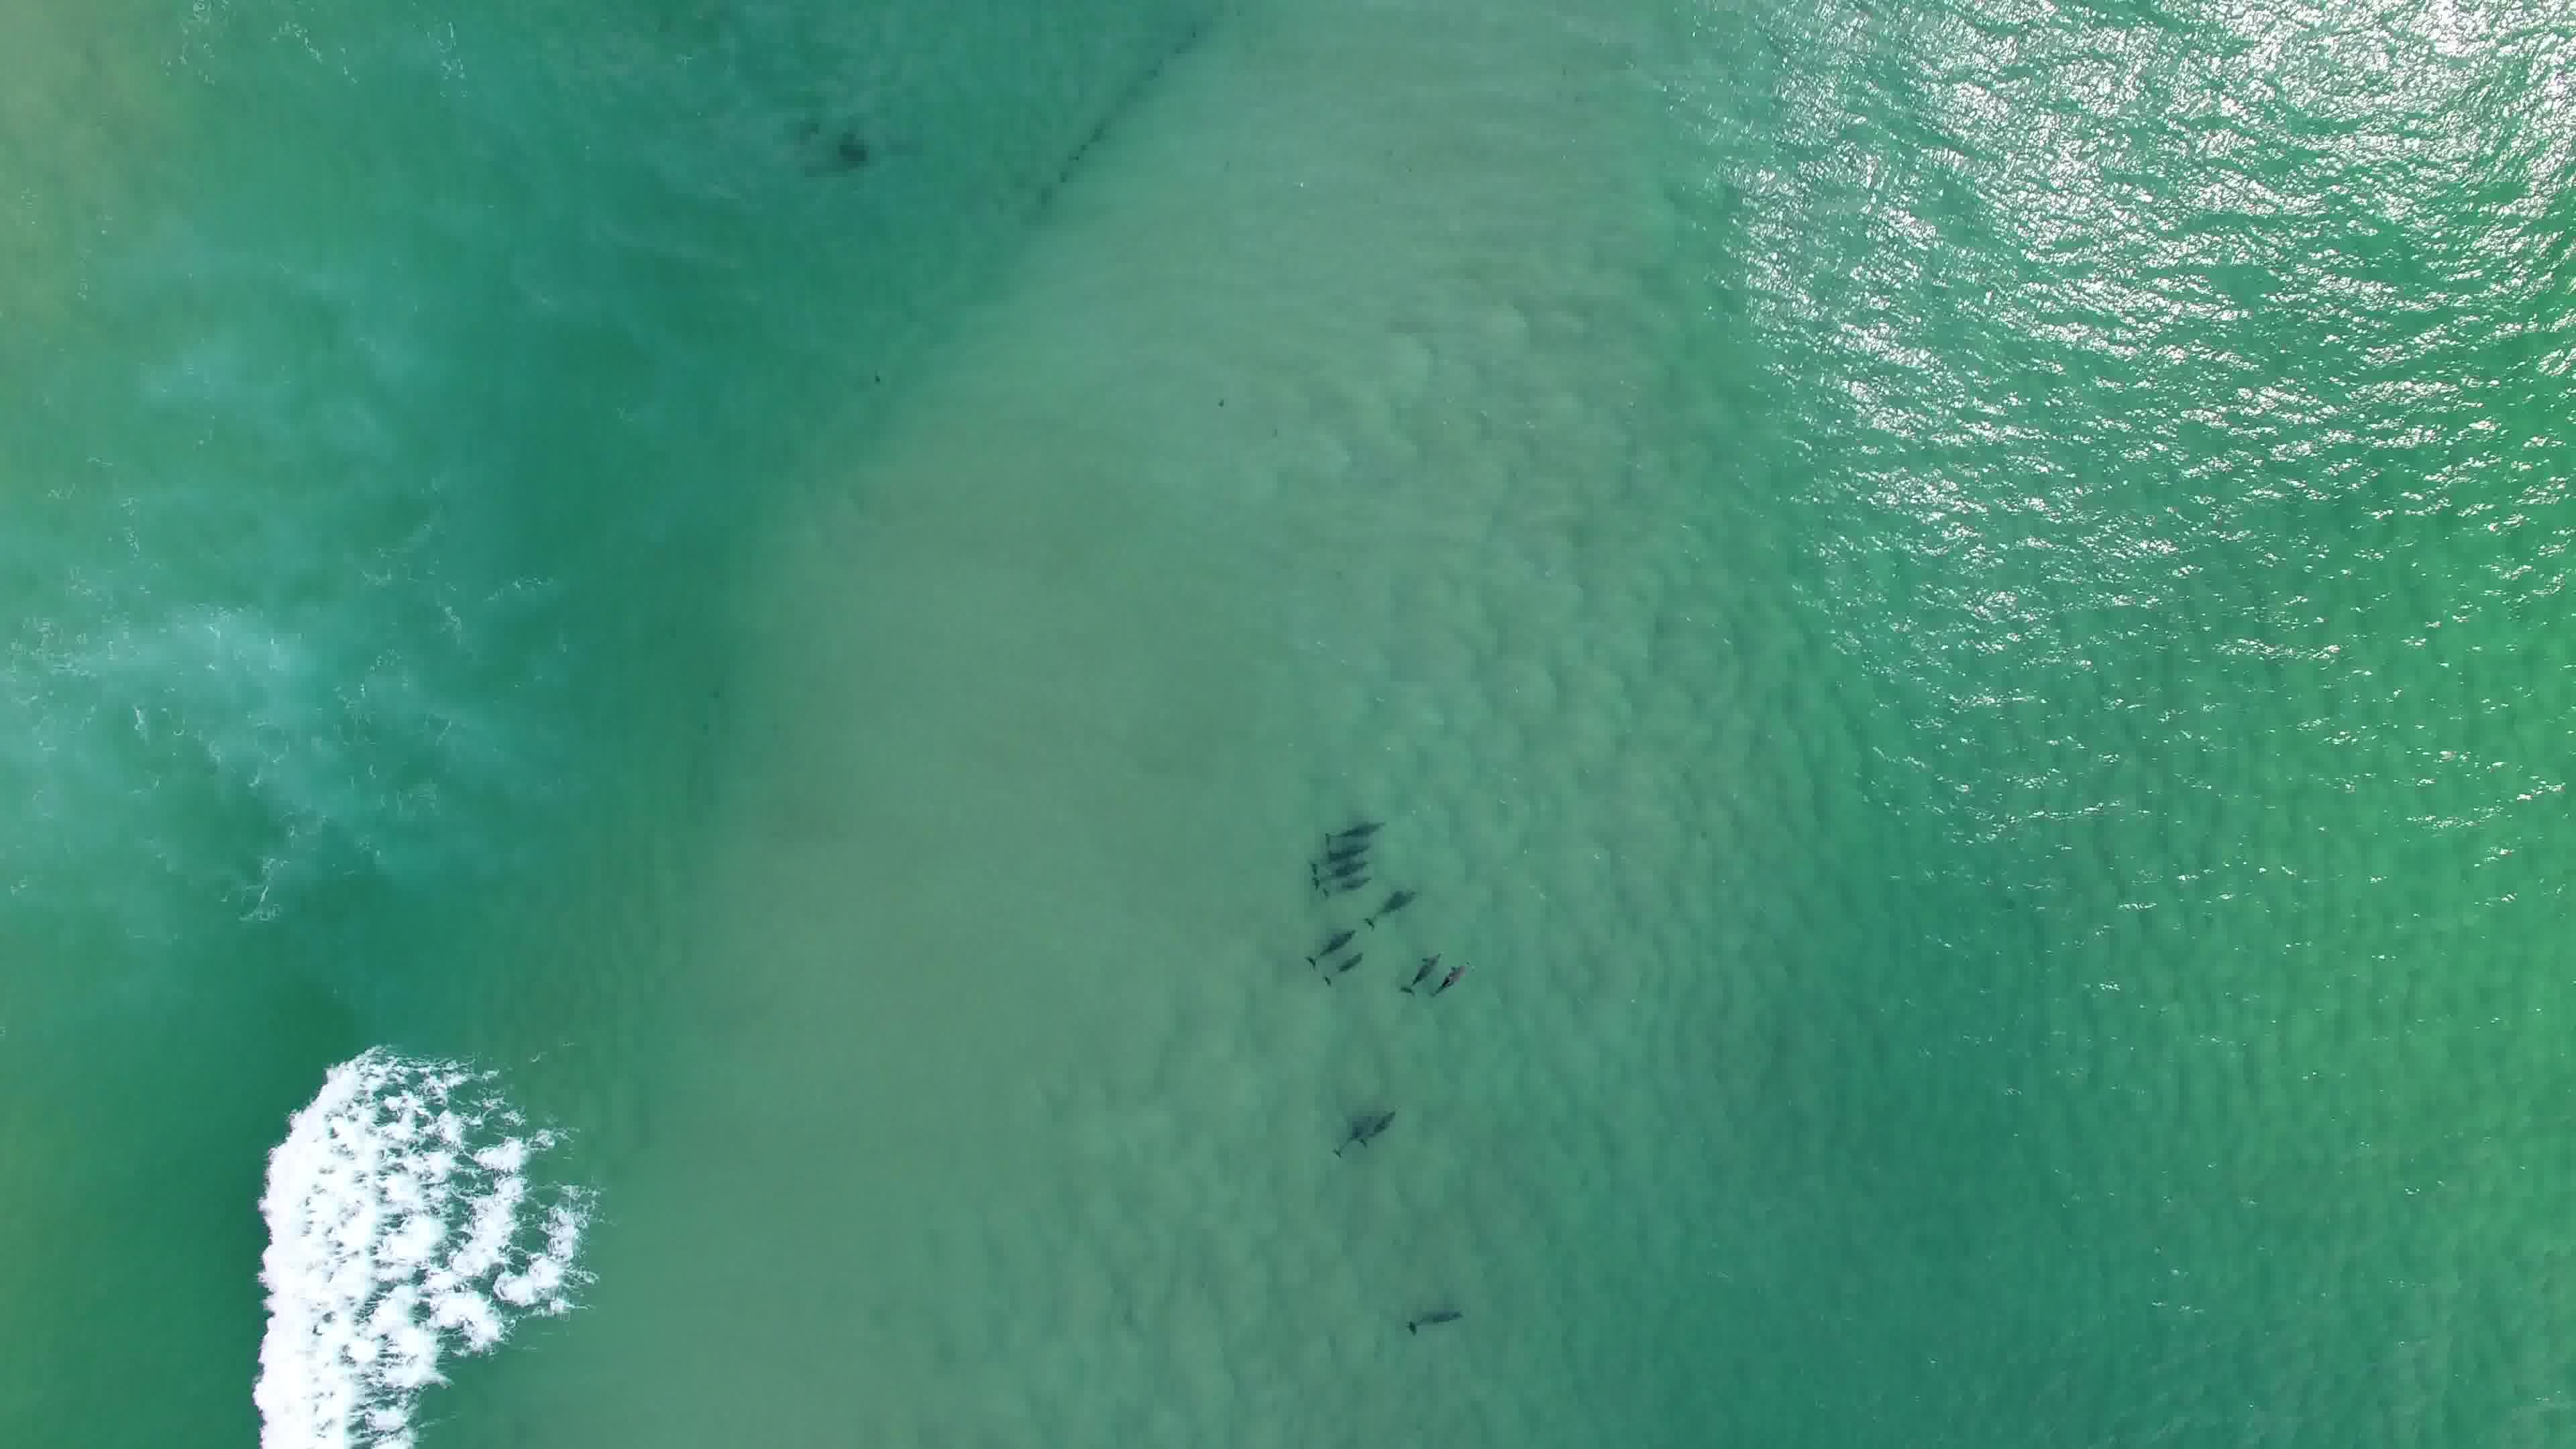dolphin: (1345, 878, 1422, 924), (1396, 1295, 1474, 1336), (1311, 918, 1362, 968), (1323, 1100, 1371, 1152), (1398, 941, 1440, 994), (1355, 1099, 1399, 1148), (1311, 863, 1375, 895), (1428, 950, 1468, 998), (1315, 833, 1371, 867), (1315, 816, 1396, 839), (1320, 948, 1373, 980), (1311, 855, 1375, 879)
